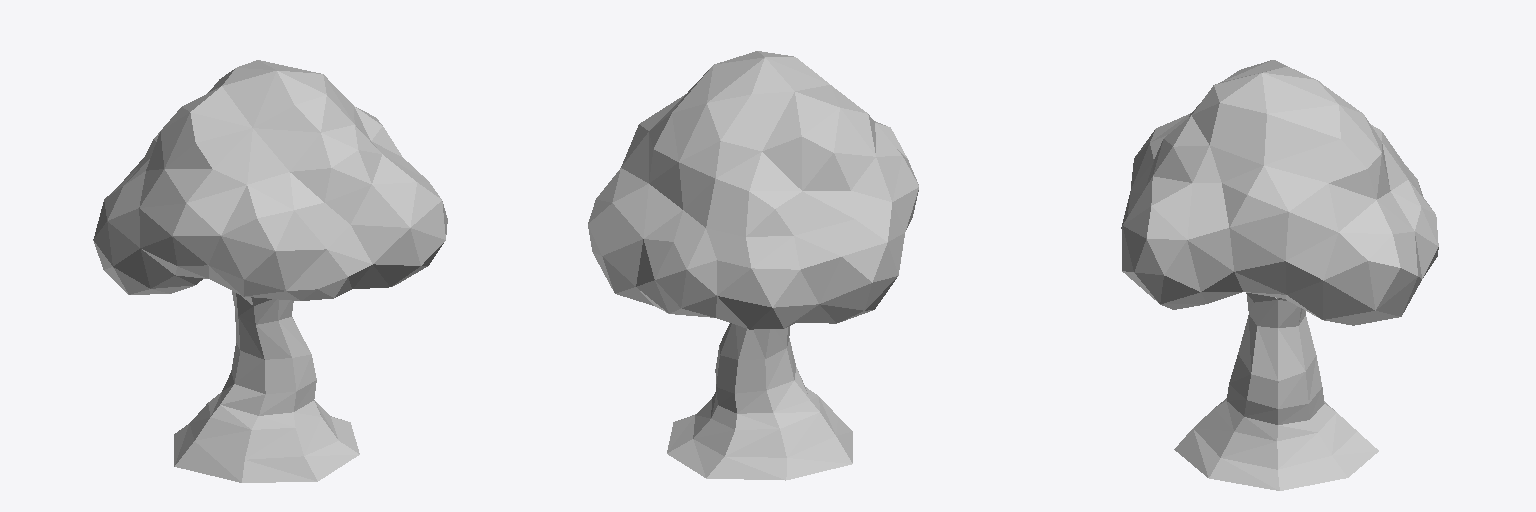
Rendered from tree4.obj.
3 views of the same model, side by side, from view 1: azimuth 30°, elevation 25°; view 2: azimuth 150°, elevation 25°; view 3: azimuth 270°, elevation 25° (orthographic).
Visible parts, largest first — view 1: LowPoly_Tree_02_Cube.000; view 2: LowPoly_Tree_02_Cube.000; view 3: LowPoly_Tree_02_Cube.000.
Part boxes in pixels (x1,y1,x2,y2): LowPoly_Tree_02_Cube.000: (93, 60, 447, 482); LowPoly_Tree_02_Cube.000: (588, 51, 918, 480); LowPoly_Tree_02_Cube.000: (1121, 60, 1438, 490).
Bounding box in the file's own units: 1.83 × 2.42 × 1.84.